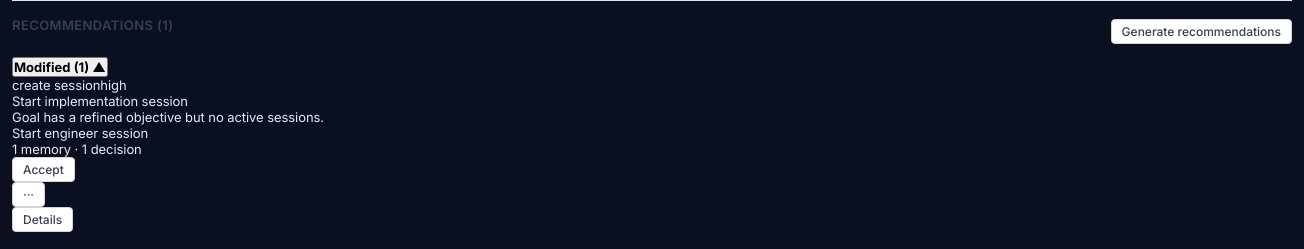
it: RecommendationsPanel › collapses Modified section when toggle clicked
What coordinates should you click on to do the following:
click the button with class "recommendations-section-toggle"
I would click on:
 (60, 67)
Its box is left=12, top=57, right=108, bottom=77.
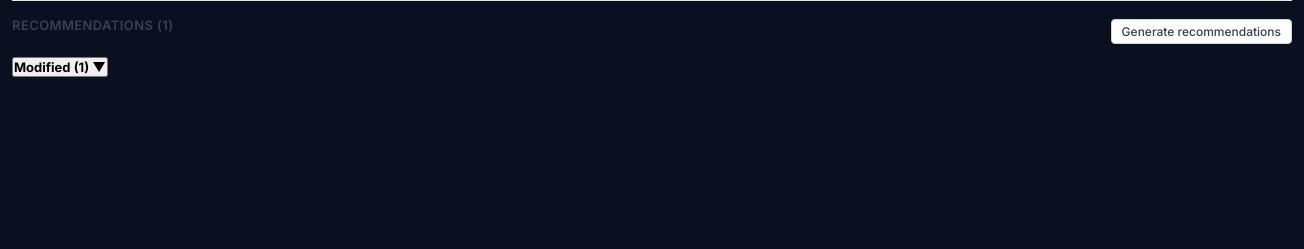
Result: the element with class "recommendation-card--modified" is gone
